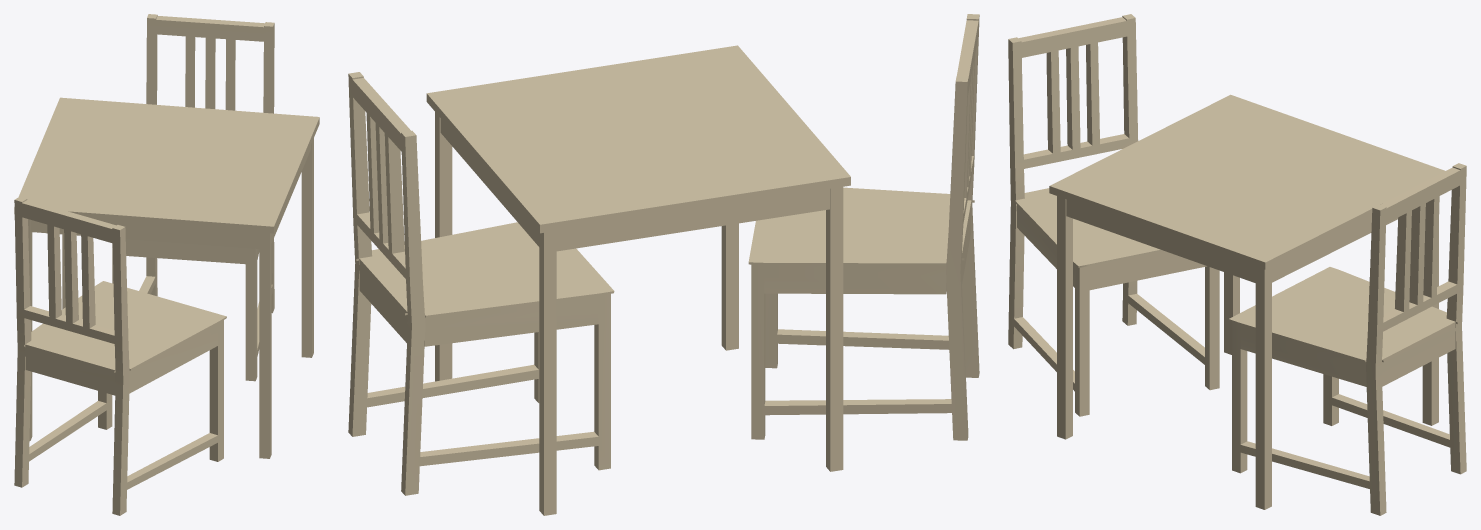
File: IKEA-Ingo_Table_and_Stefan_Chairs-3D.obj
3 views of the same model, side by side, from view 1: azimuth 30°, elevation 25°; view 2: azimuth 150°, elevation 25°; view 3: azimuth 270°, elevation 25° (orthographic). The views are drawn at different scales.
Visible parts, largest first — view 1: Layer_0; view 2: Layer_0; view 3: Layer_0.
Part boxes in pixels (x1,y1,x2,y2): Layer_0: (14,14,319,515); Layer_0: (348,14,979,515); Layer_0: (1008,14,1466,515).
Size of the model in its own units: 1237 by 902 by 1220.
